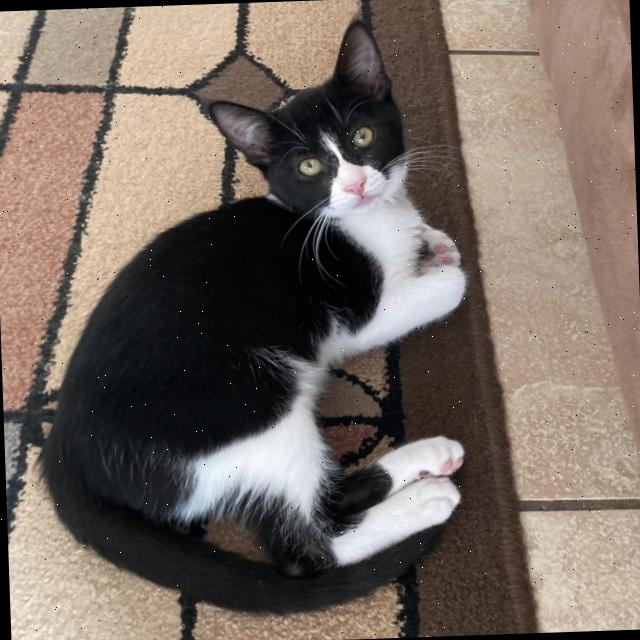american_shorthair_cat: (194, 12, 426, 232)
